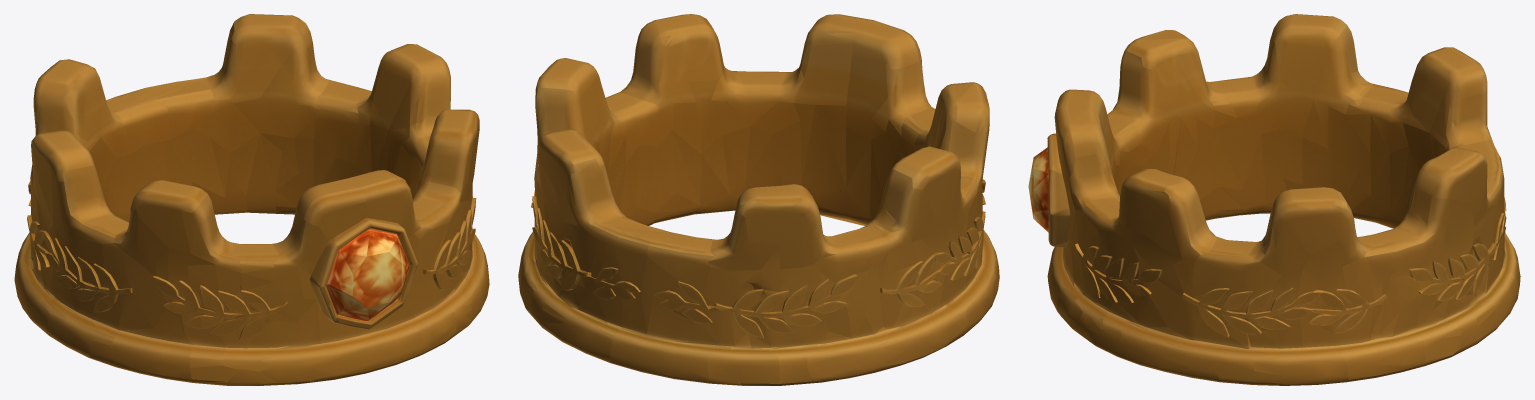
Rendered from sun_crown.glb.
3 views of the same model, side by side, from view 1: azimuth 30°, elevation 25°; view 2: azimuth 150°, elevation 25°; view 3: azimuth 270°, elevation 25° (orthographic).
Size of the model in its own units: 1.83 by 0.7789 by 1.9.
1 material, 1 textured.
